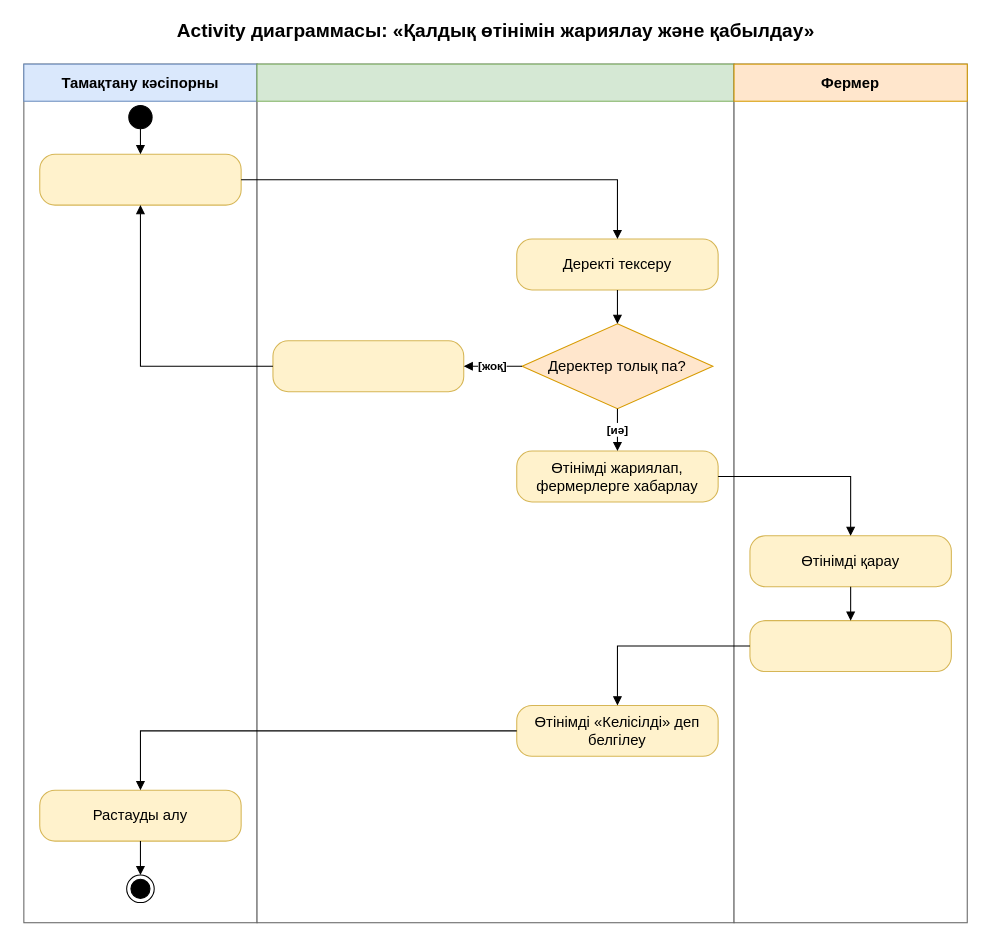
This 990x941 diagram has some shape labels left out. The shapes that lost their labels are listed below. From the top down, each one's centre as x and y in pixels, then its label:
At [495,82]: "Жүйе (цифрлық платформа)".
At [140,179]: "Қалдық түрі мен көлемін енгізу".
At [368,366]: "Қате хабарламасын көрсету".
At [850,646]: "Алып кету уақытын таңдау".
